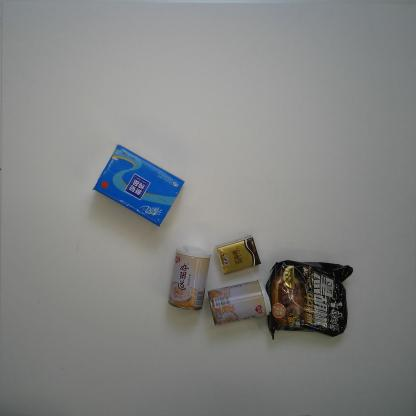Canned Food: (207, 279, 272, 326), (167, 244, 212, 311)
Instant Noodles: (264, 259, 354, 340)
Tissue: (91, 143, 186, 228), (215, 234, 262, 275)
